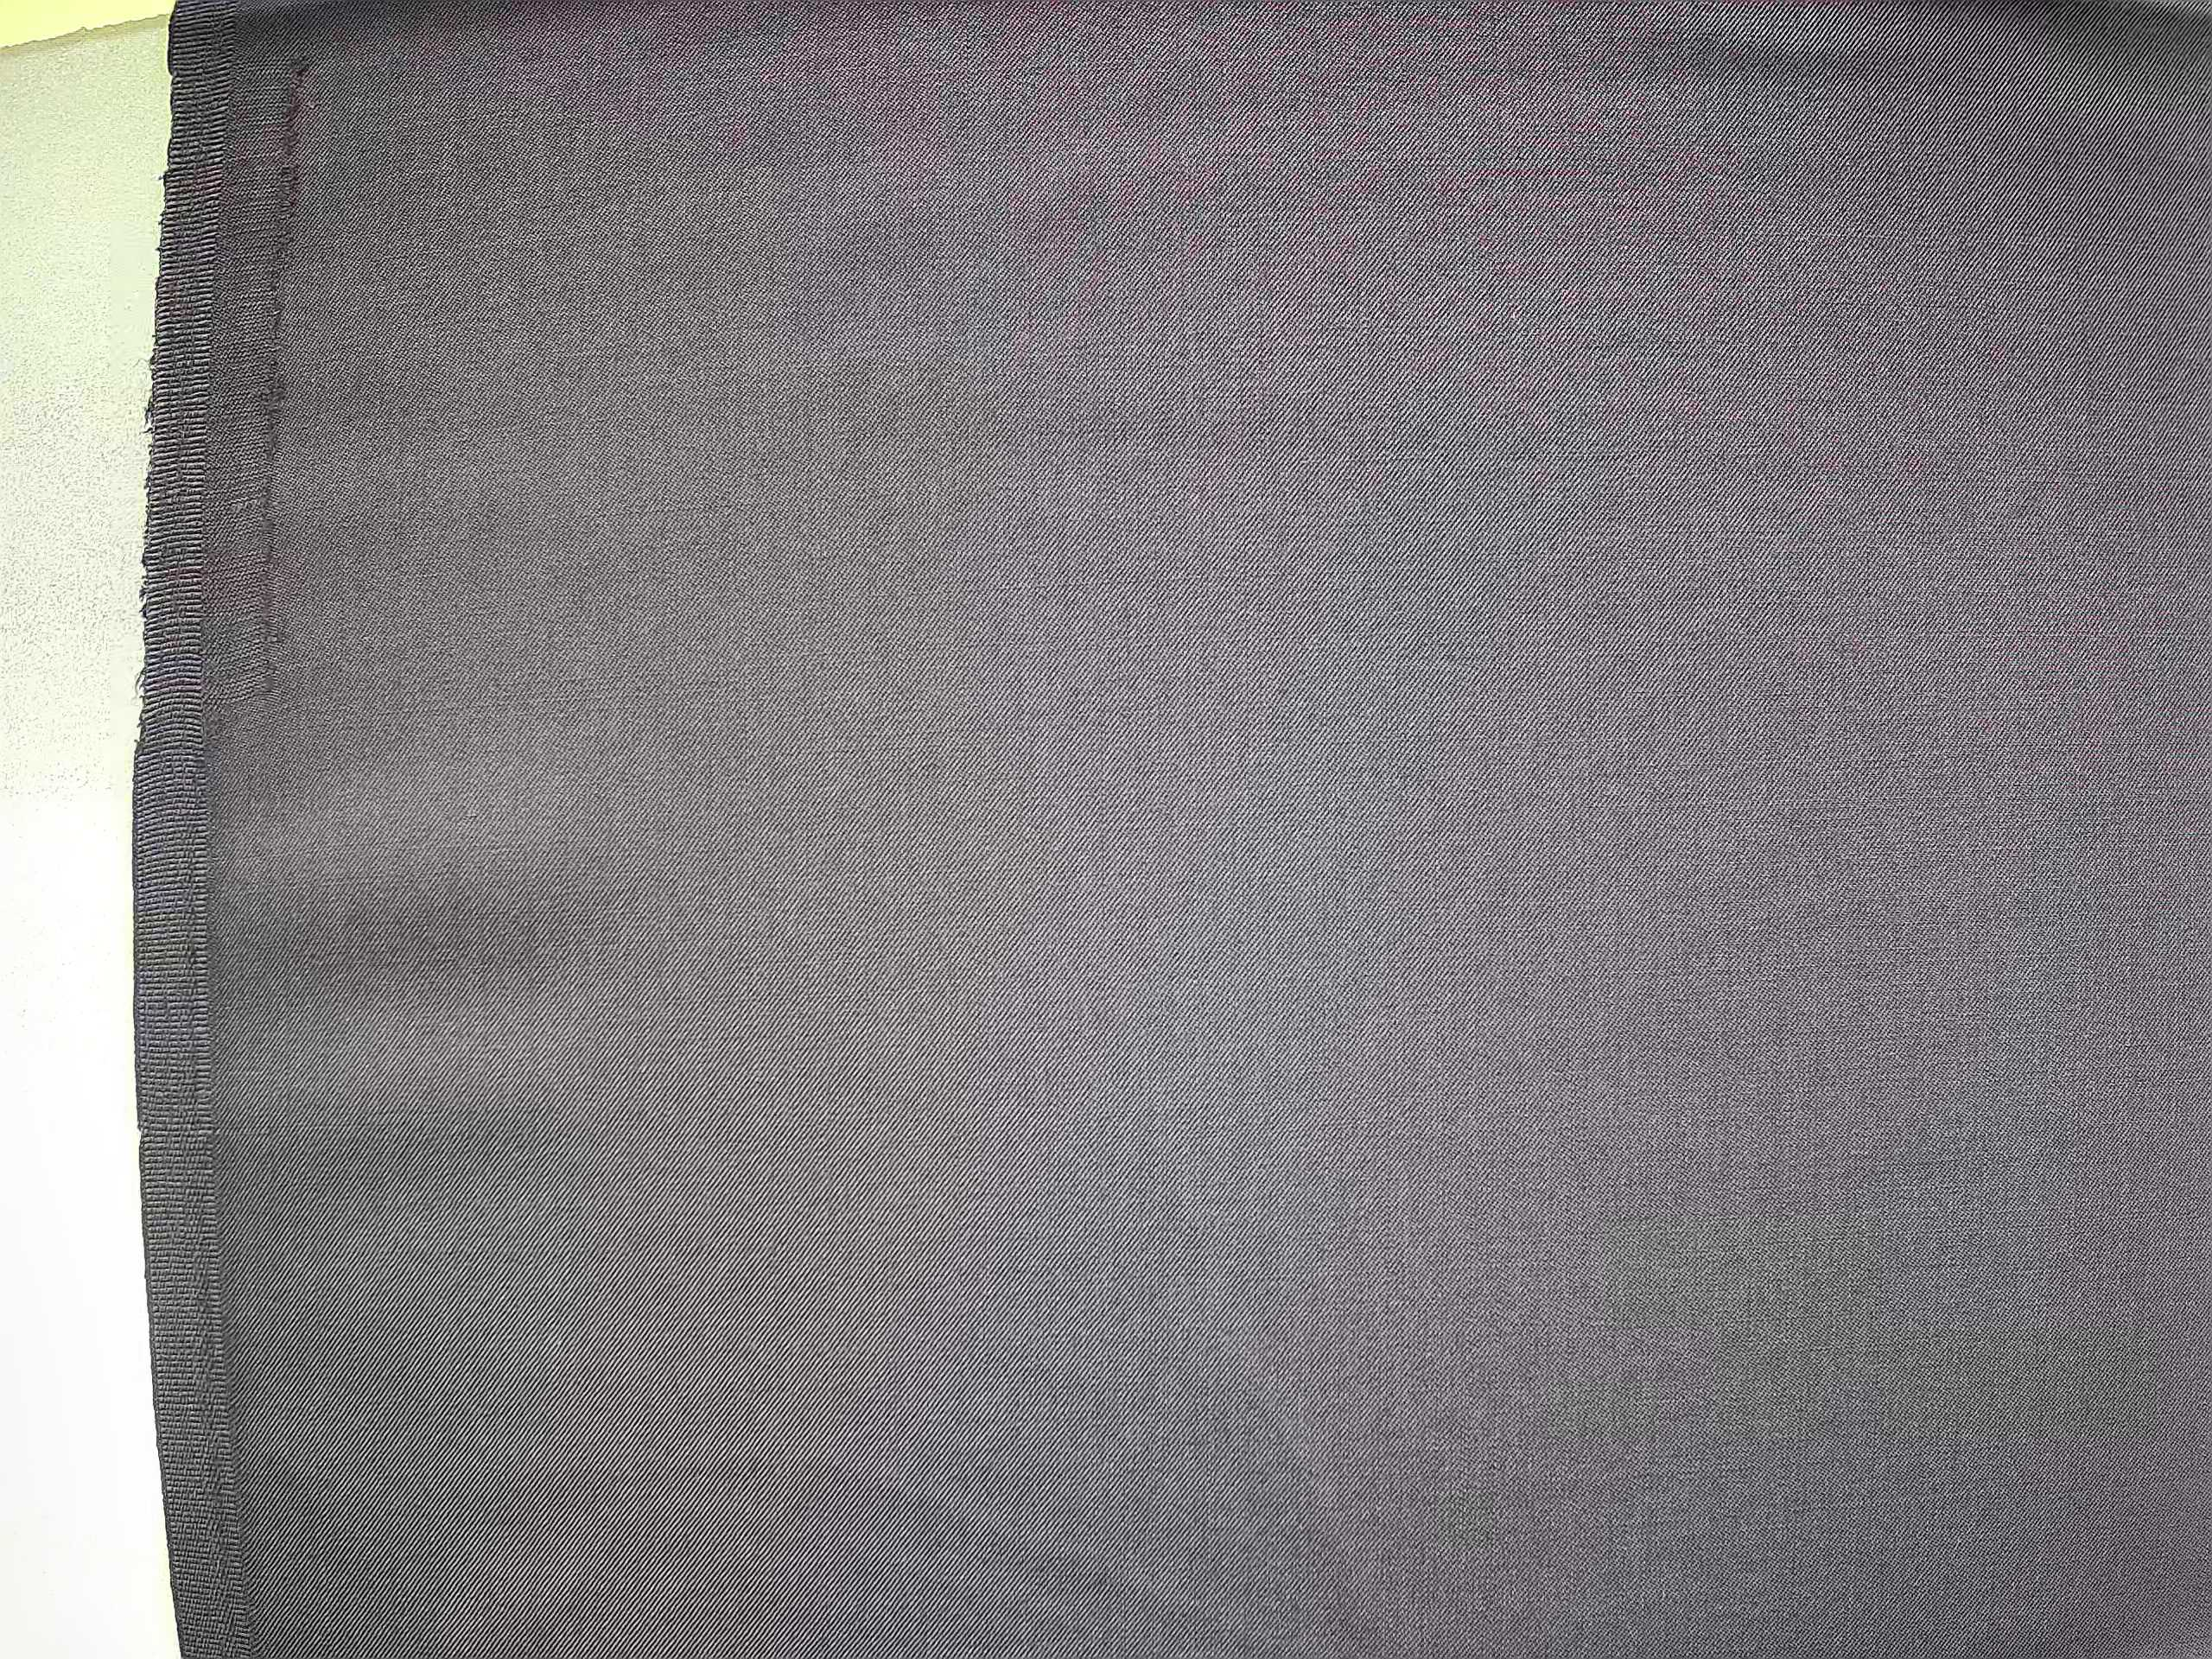others: (251, 38, 326, 709)
